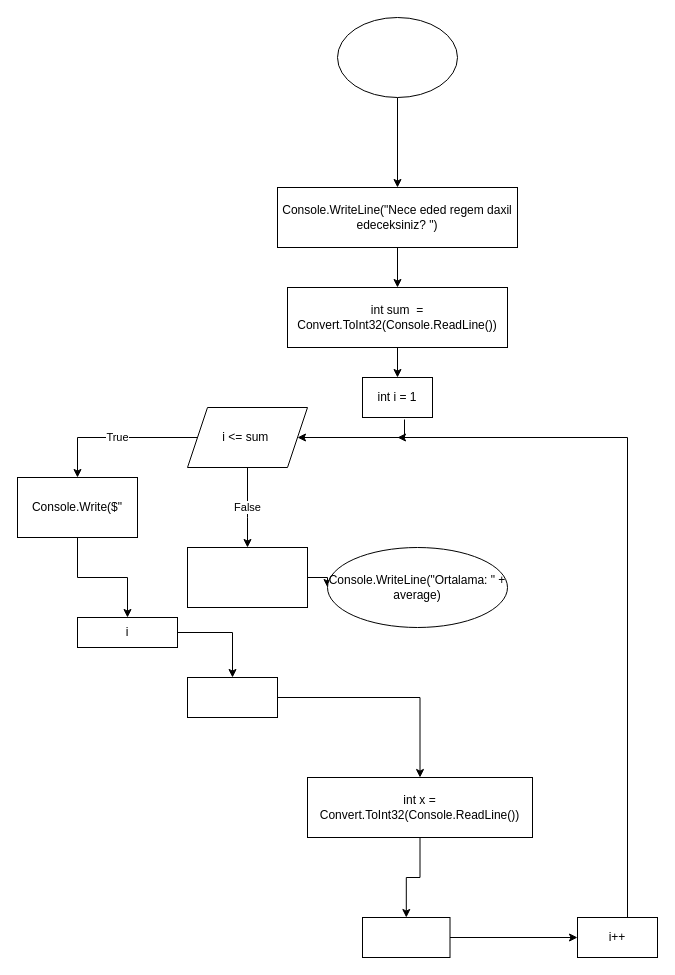
Image size: 675x975. Some labels were removed from this diagram. Each missing label, with the centre of its shape:
. Eded : "): pixel 232 697
double average = (double)total / sum: pixel 247 577
Start: pixel 397 57
total += x: pixel 406 937
